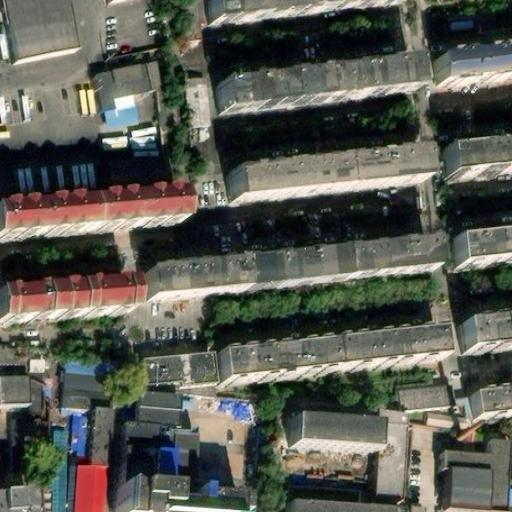building: (140, 238, 431, 299), (215, 330, 444, 379), (222, 145, 419, 197), (217, 57, 413, 109), (0, 193, 179, 241), (0, 280, 126, 323), (90, 64, 159, 126), (440, 447, 502, 512), (432, 42, 512, 80), (288, 417, 373, 452), (138, 350, 218, 386), (369, 421, 399, 511), (442, 137, 512, 175), (117, 430, 154, 500), (60, 359, 111, 409), (453, 226, 512, 263), (121, 395, 178, 433), (461, 308, 512, 345), (283, 486, 357, 508), (1, 413, 24, 481), (68, 470, 105, 512), (393, 377, 446, 406), (466, 378, 512, 411), (88, 409, 111, 471), (440, 479, 482, 512), (180, 74, 207, 120), (150, 458, 174, 501), (69, 409, 88, 458), (282, 504, 395, 512), (0, 380, 28, 407), (422, 408, 455, 428), (118, 500, 171, 512), (0, 345, 26, 368), (26, 355, 47, 377)
